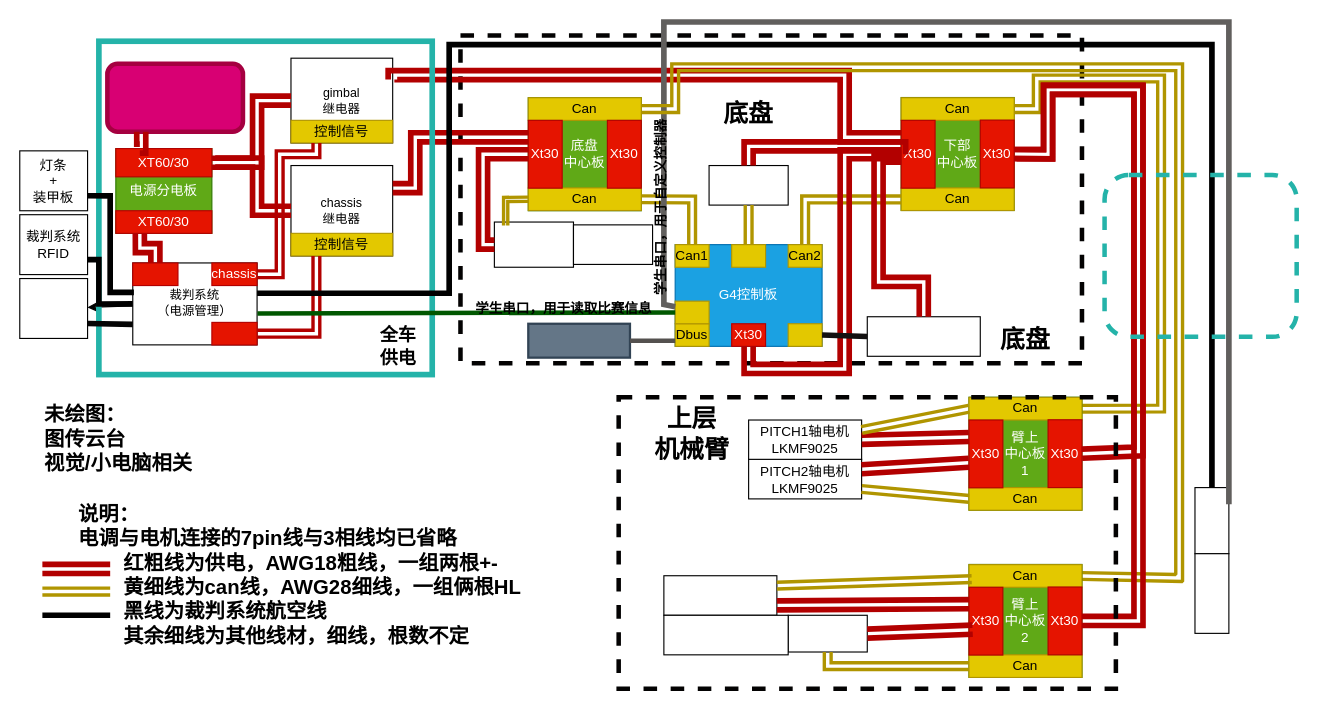
This 1319x711 diagram has some shape labels left out. Each missing label, with the centre of its shape:
"2*2006电机 正交并联pitch roll" belongs at (725,634).
"2006电调*2" belongs at (827,633).
"3508电调*4" belongs at (533,244).
"4*驱动轮 3508电机" belongs at (612,244).
"Can3" belongs at (748,255).
"dt7接收机" belongs at (579,340).
"gimbal" belongs at (234,333).
"GPIO" belongs at (804,334).
"ROLL轴6020" belongs at (720,595).
"YAW轴电机 LKMF9025" belongs at (748,184).
"串口" belongs at (691,312).
"供电" belongs at (155,274).
"双电并联" belongs at (175,97).
"图传" belongs at (1211,520).
"场地定位" belongs at (1211,593).
"滑环及转接板" belongs at (1200,255).
"电磁阀继电器 气泵继电器" belongs at (923,336).
"裁判系统主控" belongs at (53,307).
